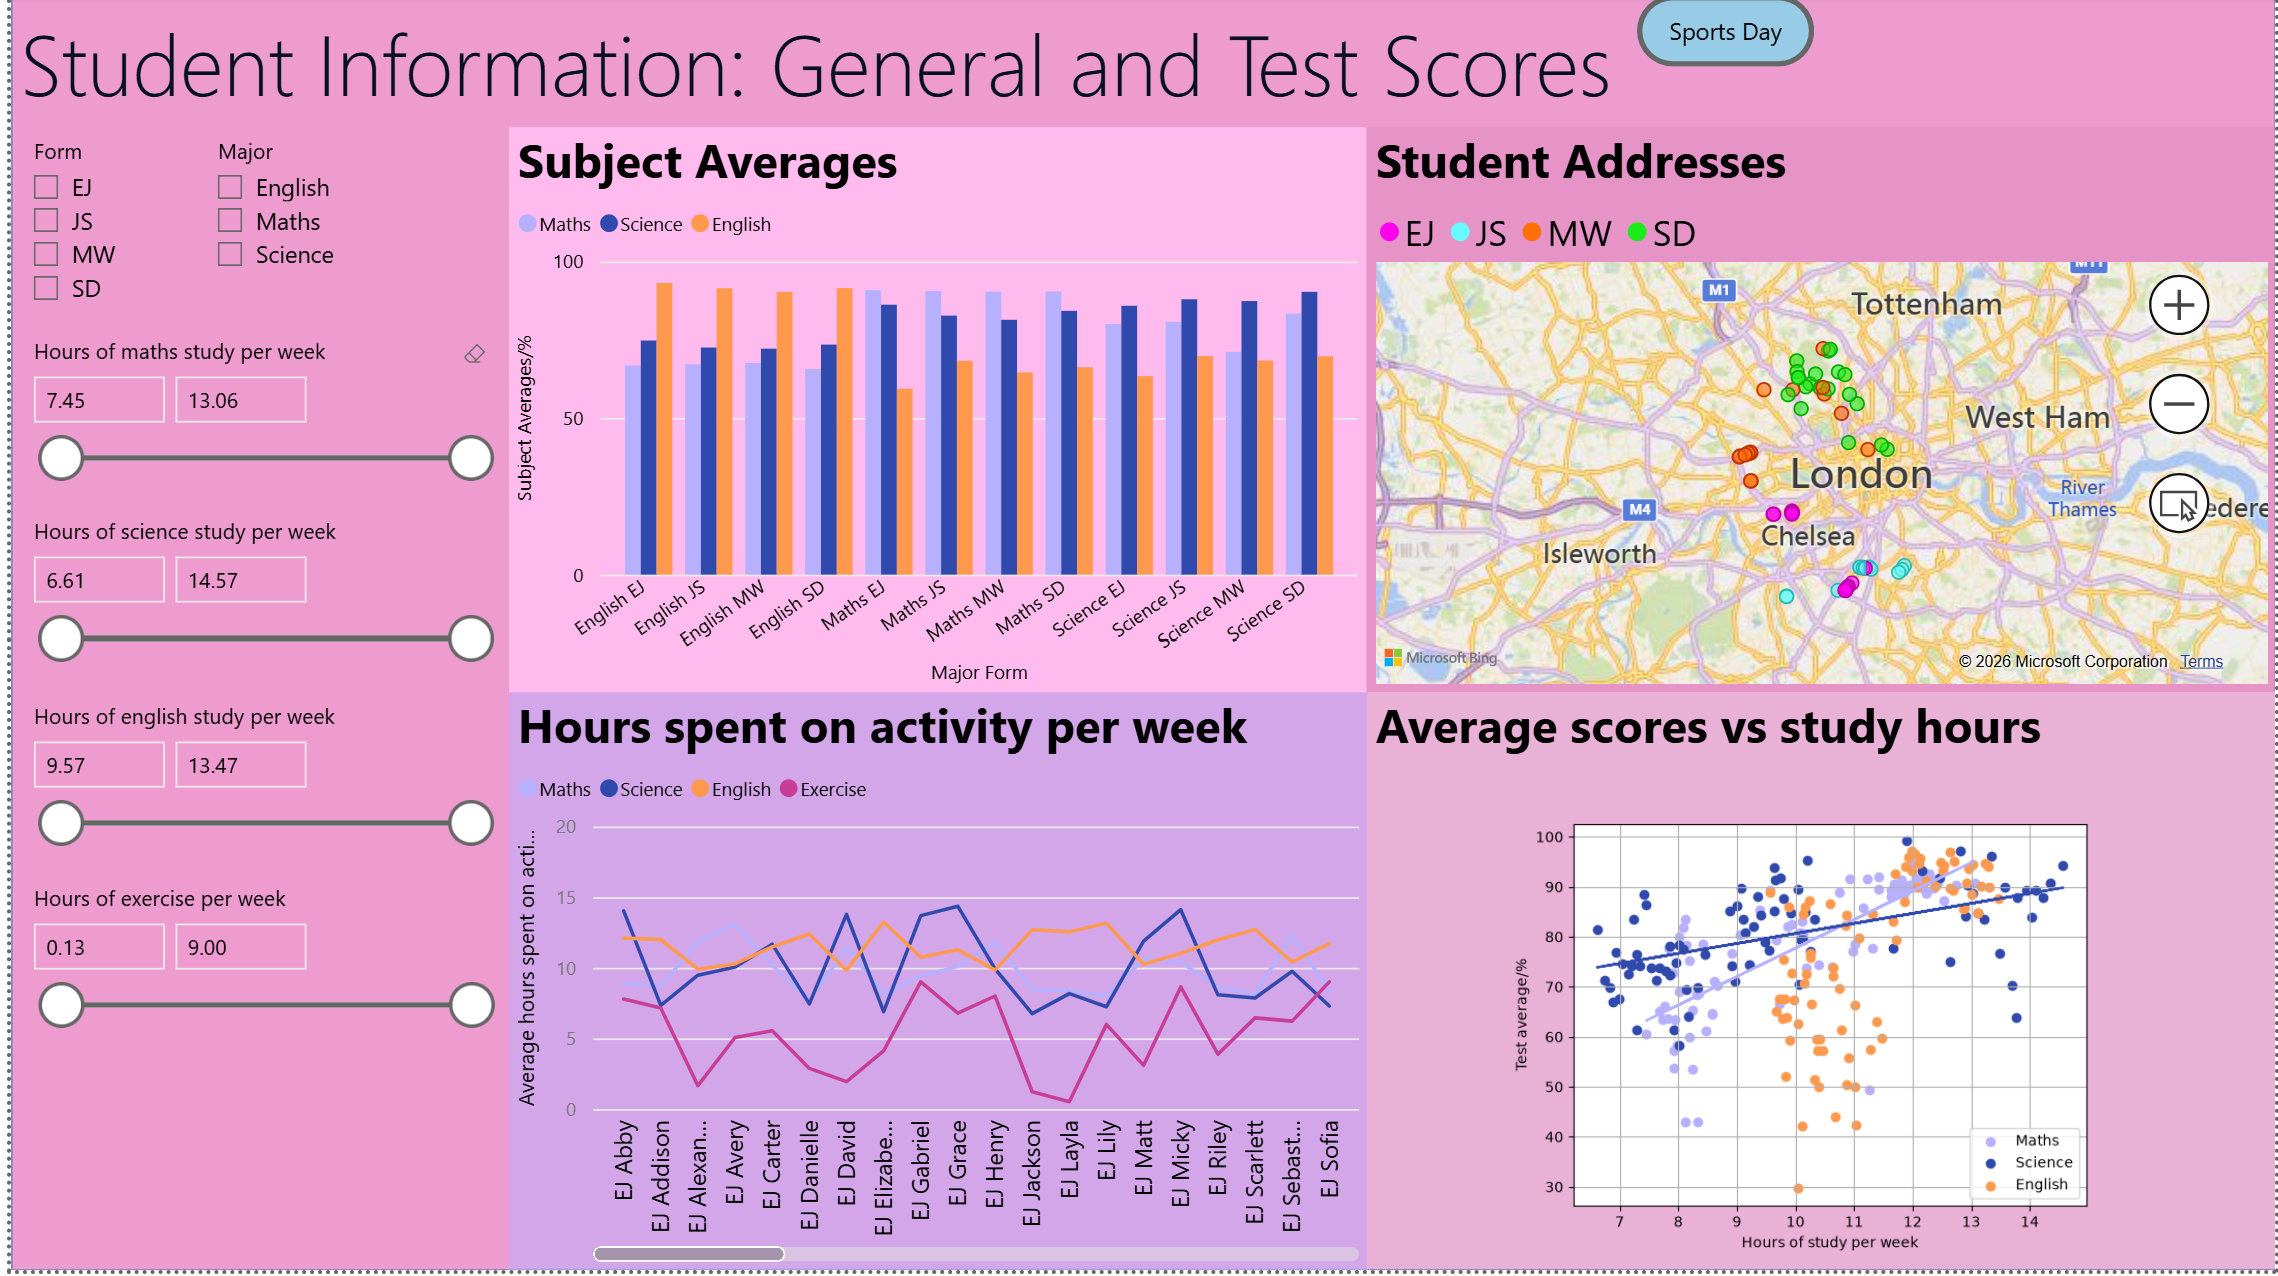

The page's visual inventory and layout, read from the dashboard file:
{"tool":"powerbi","page":{"name":"StudentInfo","canvas":[1280,720],"ordinal":0},"visuals":[{"type":"shape","box":[0,0,1280,719.4],"z":0},{"type":"slicer","fields":{"Values":["FactWholeYear10.Major"]},"box":[103.5,74.2,103.5,94.9],"z":1000},{"type":"slicer","fields":{"Values":["FactWholeYear10.Form"]},"box":[0,74.3,102.9,114.3],"z":2000},{"type":"lineChart","title":"Hours spent on activity per week","fields":{"Category":["FactWholeYear10.Form","DimStudent.Student Forename"],"Y":["Avg(FactWholeYear10.Hours per week studying maths)","Avg(FactWholeYear10.Hours per week studying science)","Avg(FactWholeYear10.Hours per week studying english)","Avg(FactWholeYear10.Hours of exercise each week)"]},"box":[281.5,393.2,485.4,326.8],"z":3000},{"type":"map","title":"Student Addresses","fields":{"Category":["DimStudent.Postcode"],"Series":["FactWholeYear10.Form"]},"box":[765.9,74.2,514.1,319.1],"z":4000},{"type":"slicer","fields":{"Values":["FactWholeYear10.Hours of exercise each week"]},"box":[0,496.7,281.5,103.6],"z":5000},{"type":"slicer","title":"Hours of maths study each week","fields":{"Values":["FactWholeYear10.Hours per week studying maths"]},"box":[0,188,281.2,101.8],"z":6000},{"type":"slicer","title":"Hours of science study each week","fields":{"Values":["FactWholeYear10.Hours per week studying science"]},"box":[0,289.8,281.2,103.5],"z":7000},{"type":"slicer","title":"Hours of english study each week","fields":{"Values":["FactWholeYear10.Hours per week studying english"]},"box":[0,393.3,281.2,103.5],"z":8000},{"type":"pythonVisual","title":"Average scores vs study hours","fields":{"Values":["FactWholeYear10.Hours per week studying english","FactWholeYear10.Hours per week studying maths","FactWholeYear10.Hours per week studying science","FactWholeYear10.English average","FactWholeYear10.Maths average","FactWholeYear10.Science average"]},"box":[766,393,514,326],"z":9000},{"type":"textbox","box":[0,0,919.5,74.2],"z":10000},{"type":"clusteredColumnChart","title":"Subject Averages","fields":{"Y":["Avg(FactWholeYear10.Maths average)","Avg(FactWholeYear10.Science average)","Avg(FactWholeYear10.English average)"],"Category":["FactWholeYear10.Major","FactWholeYear10.Form"]},"box":[281.2,74.2,484.7,319.1],"z":11000},{"type":"actionButton","box":[918.6,0,100.1,40.4],"z":12000}]}

Visuals, with their boxes in screenshot pixels (x1, y1, x2, y2), scaled from the page's 1280x720 canvas onto the 2278x1276 screenshot:
shape: rect(0, 0, 2277, 1275)
slicer - FactWholeYear10.Major: rect(184, 131, 368, 300)
slicer - FactWholeYear10.Form: rect(0, 132, 183, 334)
"Hours spent on activity per week" lineChart: rect(501, 697, 1365, 1275)
"Student Addresses" map: rect(1363, 131, 2277, 697)
slicer - FactWholeYear10.Hours of exercise each week: rect(0, 880, 501, 1064)
"Hours of maths study each week" slicer: rect(0, 333, 500, 514)
"Hours of science study each week" slicer: rect(0, 514, 500, 697)
"Hours of english study each week" slicer: rect(0, 697, 500, 880)
"Average scores vs study hours" pythonVisual: rect(1363, 696, 2277, 1274)
textbox: rect(0, 0, 1636, 131)
"Subject Averages" clusteredColumnChart: rect(500, 131, 1363, 697)
actionButton: rect(1635, 0, 1813, 72)
